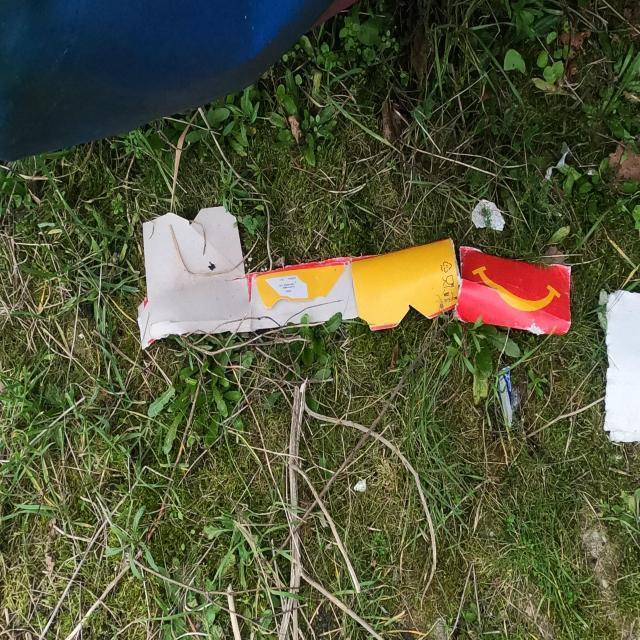Paper: (136, 206, 462, 352), (454, 244, 572, 336), (602, 289, 640, 443), (471, 198, 506, 232)
Plastic: (496, 364, 520, 430)
